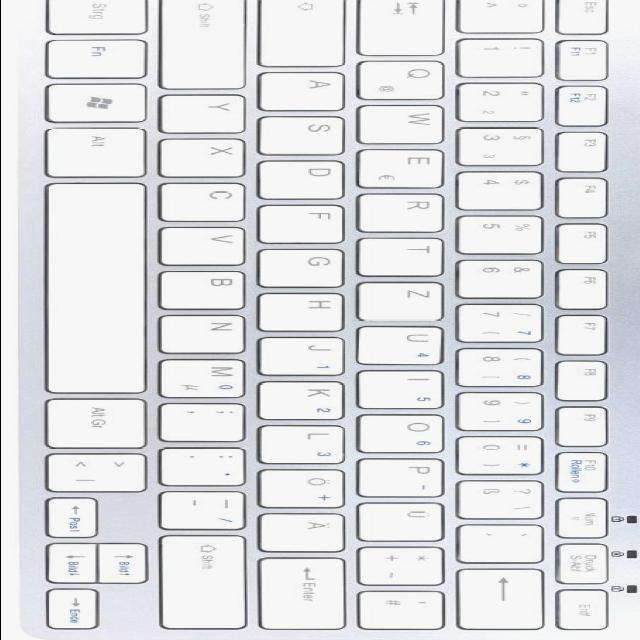0: (460, 434, 552, 475)
1: (461, 36, 551, 76)
2: (461, 81, 551, 121)
3: (461, 124, 551, 165)
4: (461, 169, 551, 208)
5: (461, 212, 551, 252)
6: (461, 257, 551, 297)
7: (460, 302, 550, 342)
8: (460, 346, 550, 387)
9: (460, 390, 550, 430)
a: (264, 69, 353, 110)
accent: (463, 522, 553, 562)
ae: (264, 511, 353, 551)
alt-left: (48, 125, 155, 177)
altgr-right: (48, 395, 155, 447)
b: (162, 267, 252, 308)
c: (164, 179, 253, 220)
caret: (463, 0, 553, 31)
comma: (164, 400, 253, 440)
d: (261, 157, 353, 198)
del: (463, 566, 553, 630)
e: (360, 147, 452, 187)
enter: (264, 554, 356, 628)
f: (262, 202, 351, 242)
g: (262, 245, 351, 285)
h: (262, 290, 351, 330)
hash: (363, 589, 453, 629)
i: (361, 368, 451, 408)
j: (262, 334, 351, 374)
k: (261, 379, 353, 419)
keyboard: (16, 0, 640, 640)
l: (261, 423, 353, 463)
less: (47, 450, 153, 492)
m: (161, 356, 253, 398)
minus: (164, 488, 253, 529)
n: (162, 312, 252, 353)
o: (361, 412, 453, 453)
oe: (263, 466, 353, 507)
p: (361, 455, 453, 496)
plus: (363, 544, 453, 584)
point: (164, 445, 253, 486)
q: (361, 57, 453, 99)
r: (361, 191, 451, 231)
s: (261, 113, 353, 154)
shift-left: (164, 0, 257, 88)
shift-lock: (262, 0, 354, 65)
shift-right: (164, 533, 256, 629)
space: (47, 181, 154, 393)
ss: (461, 478, 551, 518)
strg-left: (50, 0, 157, 34)
t: (361, 236, 451, 275)
tab: (362, 0, 454, 54)
u: (360, 323, 452, 364)
ue: (360, 500, 453, 540)
v: (162, 224, 252, 265)
w: (361, 102, 453, 142)
x: (162, 135, 252, 176)
y: (164, 92, 254, 132)
z: (360, 280, 452, 320)
